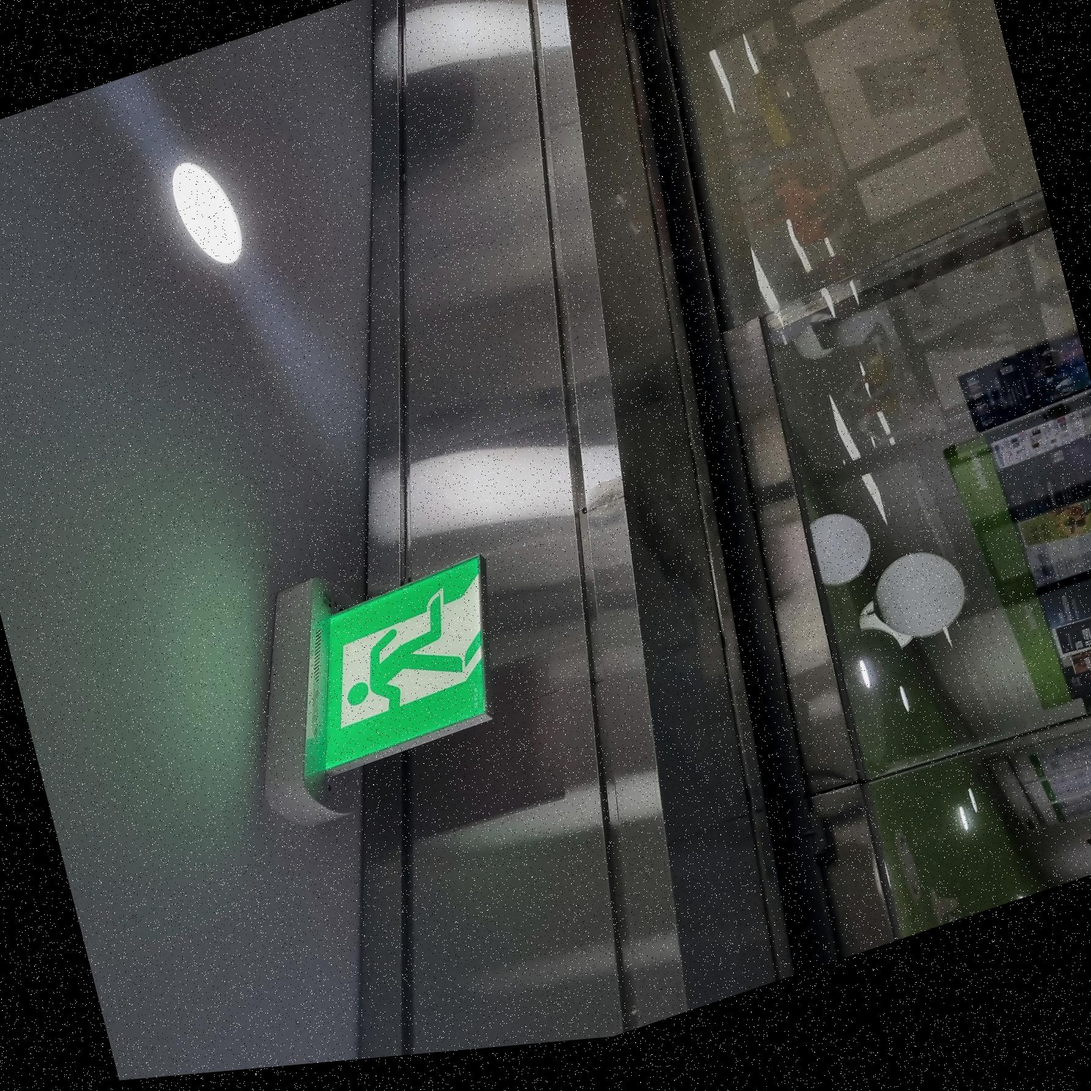emergency_exit: (304, 552, 494, 782)
